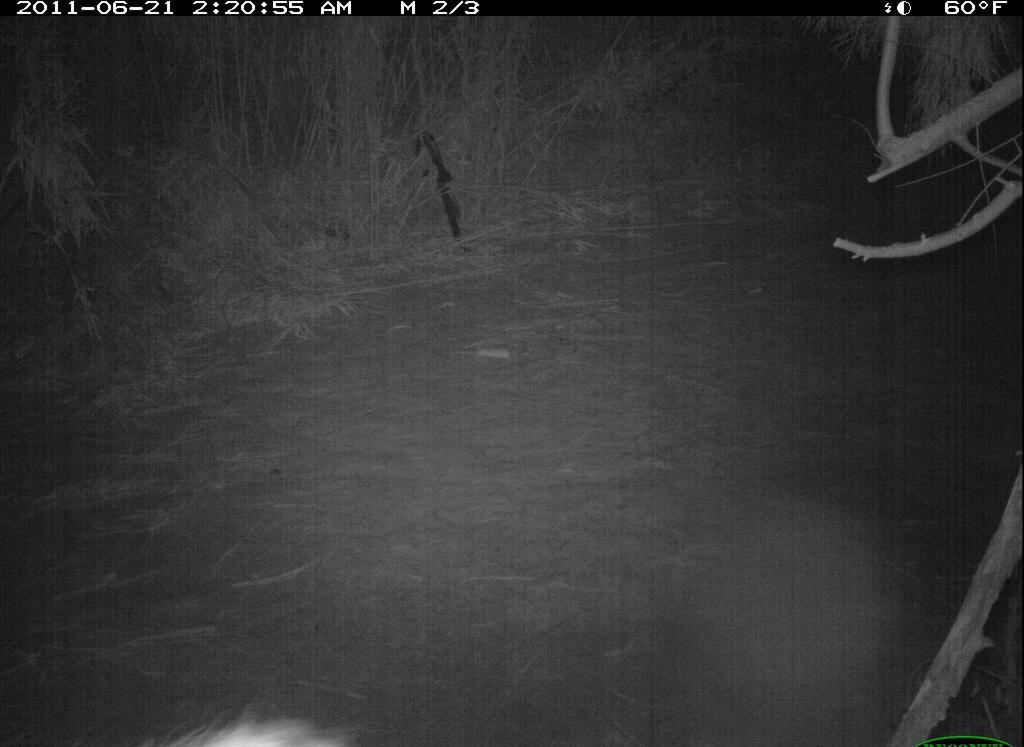raccoon: (134, 706, 356, 747)
